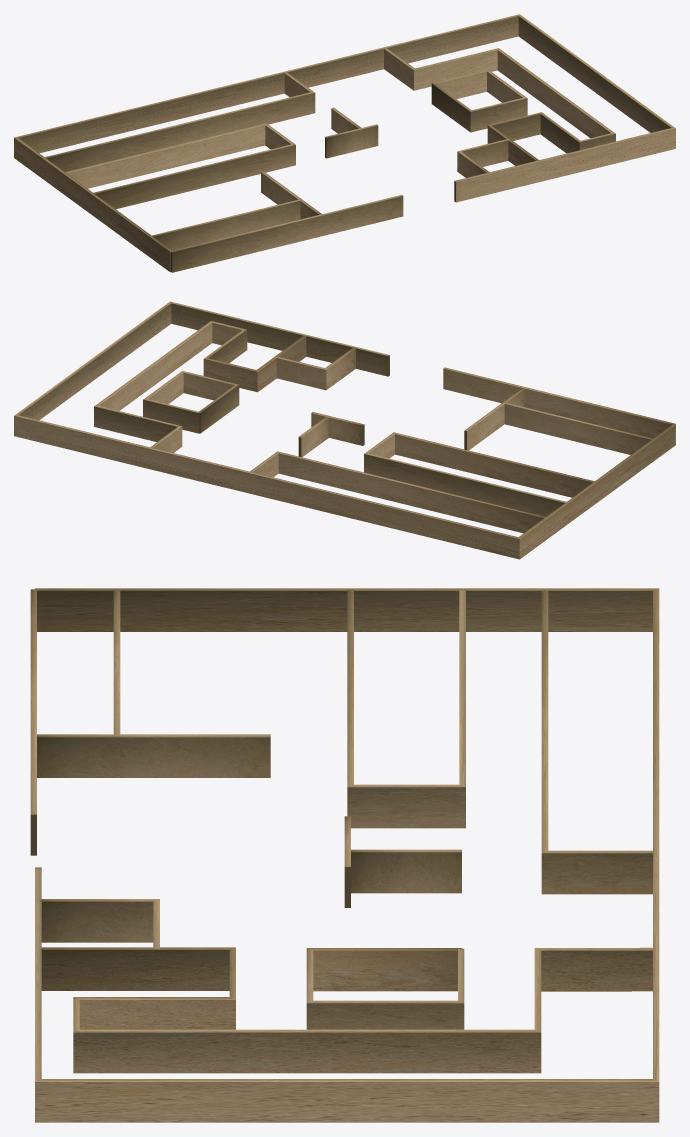
The model's file is hotelWalls 1.FBX.
3 renders of one model, top to bottom at view 1: azimuth 30°, elevation 25°; view 2: azimuth 150°, elevation 25°; view 3: azimuth 270°, elevation 25°, orthographic. The views are drawn at different scales.
Parts seen in each view (by area): view 1: Line002, Line007, Line003, Line008, Line001, Line011, Line005, Line004, Line009, Line006, Line010; view 2: Line002, Line007, Line003, Line008, Line001, Line011, Line005, Line004, Line006, Line009, Line010; view 3: Line002, Line003, Line011, Line006, Line007, Line008, Line004, Line010, Line001, Line005.
Part boxes in pixels (x1,y1,x2,y2): Line002: [14, 14, 675, 272]; Line007: [65, 123, 295, 208]; Line003: [383, 48, 615, 165]; Line008: [45, 72, 315, 172]; Line001: [171, 195, 403, 272]; Line011: [431, 69, 527, 132]; Line005: [151, 199, 300, 250]; Line004: [457, 139, 509, 177]; Line009: [325, 124, 378, 158]; Line006: [261, 171, 322, 219]; Line010: [331, 107, 361, 133]; Line002: [14, 301, 675, 559]; Line007: [364, 432, 594, 516]; Line003: [94, 321, 306, 452]; Line008: [250, 451, 545, 533]; Line001: [443, 367, 675, 438]; Line011: [143, 371, 239, 433]; Line005: [504, 402, 653, 454]; Line004: [275, 347, 355, 390]; Line006: [464, 388, 525, 450]; Line009: [311, 412, 364, 445]; Line010: [298, 416, 328, 457]; Line002: [35, 588, 659, 1122]; Line003: [39, 947, 655, 1073]; Line011: [306, 948, 464, 1029]; Line006: [37, 734, 270, 777]; Line007: [347, 589, 465, 828]; Line008: [541, 591, 652, 894]; Line004: [39, 899, 159, 948]; Line010: [349, 849, 461, 893]; Line001: [30, 589, 36, 855]; Line005: [113, 589, 120, 735].
Size of the model in its own units: 1787 by 69.01 by 962.
1 material, 1 textured.
